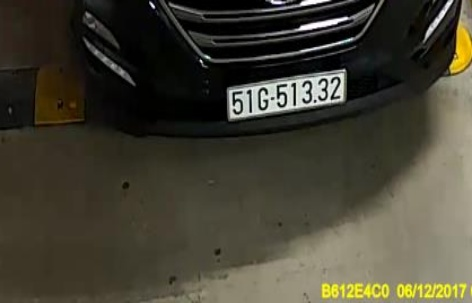plate: (223, 66, 351, 127)
